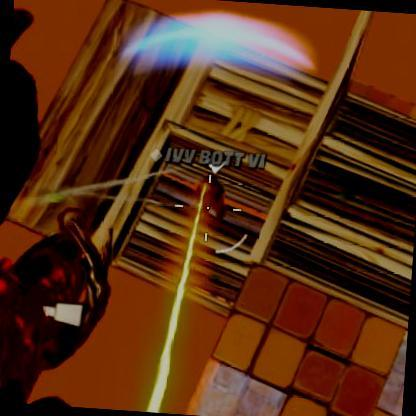person: (197, 176, 228, 222)
